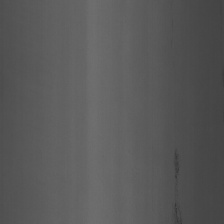inclusion: (170, 145, 186, 222)
